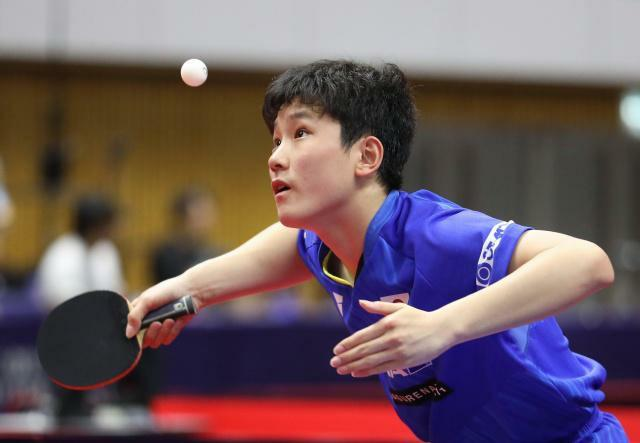ball: (176, 53, 210, 89)
